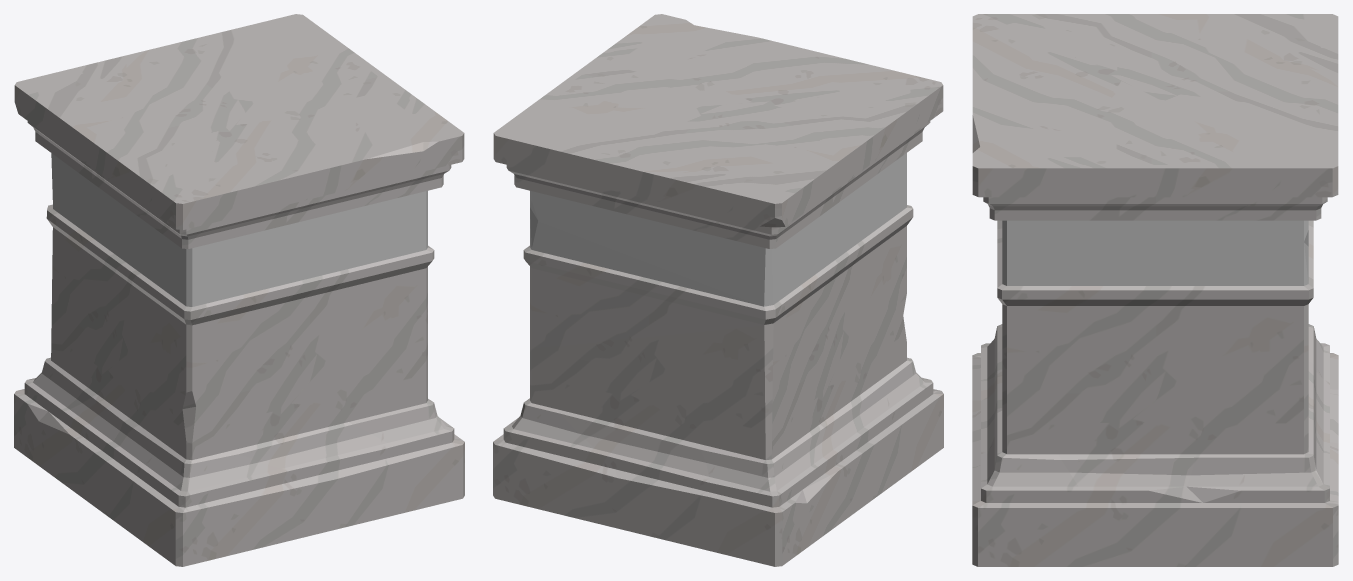
Rendered from SM_Prop_Pillar_Base_01.fbx.
3 views of the same model, side by side, from view 1: azimuth 30°, elevation 25°; view 2: azimuth 150°, elevation 25°; view 3: azimuth 270°, elevation 25° (orthographic). The views are drawn at different scales.
Parts seen in each view (by area): view 1: SM_Prop_Pillar_Base_01; view 2: SM_Prop_Pillar_Base_01; view 3: SM_Prop_Pillar_Base_01.
Part boxes in pixels (x1,y1,x2,y2): SM_Prop_Pillar_Base_01: (14,14,464,566); SM_Prop_Pillar_Base_01: (493,14,943,566); SM_Prop_Pillar_Base_01: (972,14,1338,566).
Size of the model in its own units: 83.39 by 100 by 83.39.
